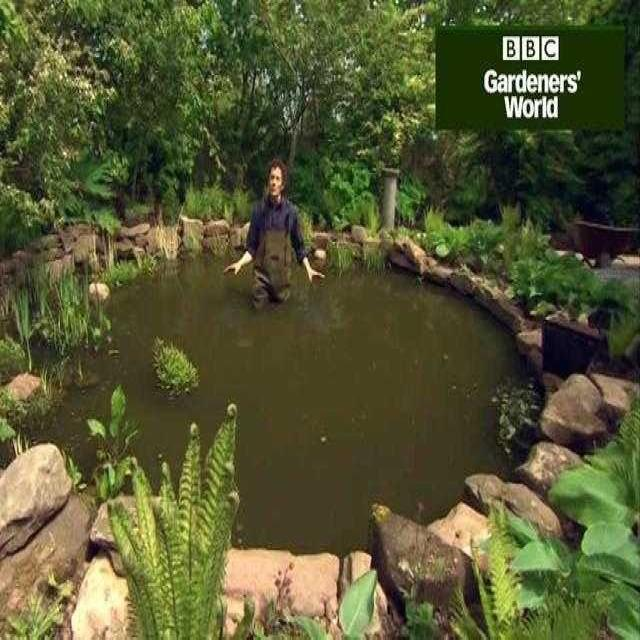Ponds: (1, 220, 640, 640)
